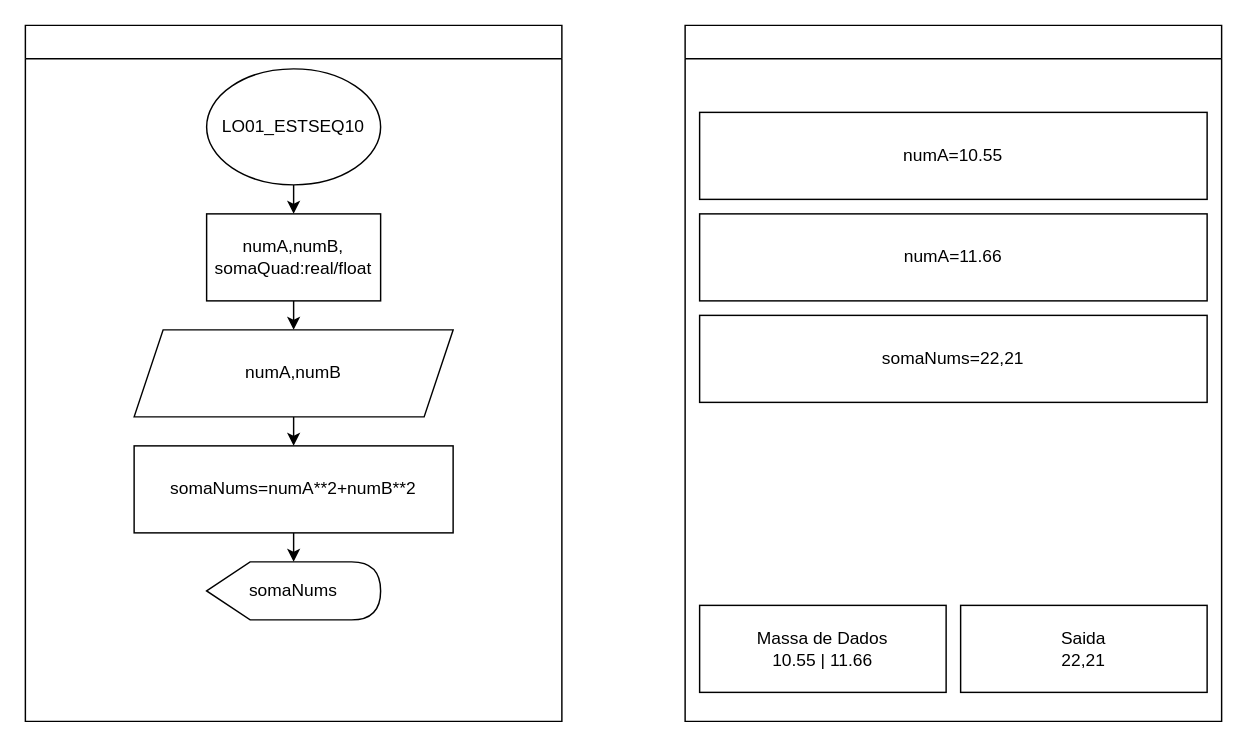
The diagram is 1247 pixels wide and 747 high, and some of its shapes have lost their labels. Here are the shapes that lost their labels. From the top down, the box of each, then its label:
(24, 24, 562, 721): FluxoGrama
(684, 24, 1222, 721): Teste de Mesa
